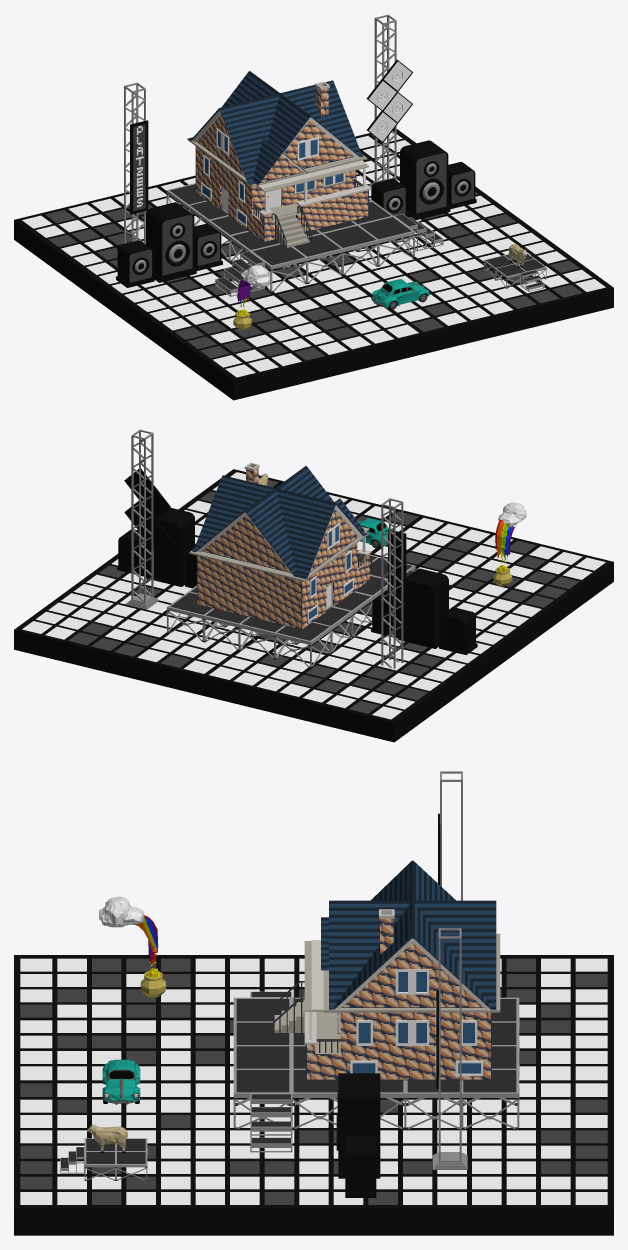
The picture shows the model from 3 angles, top to bottom: view 1: azimuth 30°, elevation 25°; view 2: azimuth 150°, elevation 25°; view 3: azimuth 270°, elevation 25°; orthographic projection. The views are drawn at different scales.
Visible parts, largest first — view 1: Cube.008, Cube.430, VEHICLES_VOLKSWAGEN, OBJRANDOM_RAINBOW; view 2: Cube.008, Cube.430, OBJRANDOM_RAINBOW, VEHICLES_VOLKSWAGEN; view 3: Cube.008, Cube.430, OBJRANDOM_RAINBOW, VEHICLES_VOLKSWAGEN, ANIMAL_OVEJA.
Boxes of the visible parts, left/top/right/bottom form: Cube.008: left=14, top=14, right=613, bottom=400; Cube.430: left=187, top=71, right=371, bottom=248; VEHICLES_VOLKSWAGEN: left=371, top=279, right=429, bottom=309; OBJRANDOM_RAINBOW: left=233, top=265, right=270, bottom=330; Cube.008: left=14, top=429, right=613, bottom=742; Cube.430: left=189, top=462, right=372, bottom=629; OBJRANDOM_RAINBOW: left=493, top=502, right=526, bottom=586; VEHICLES_VOLKSWAGEN: left=358, top=518, right=391, bottom=548; Cube.008: left=14, top=771, right=613, bottom=1235; Cube.430: left=272, top=860, right=500, bottom=1080; OBJRANDOM_RAINBOW: left=99, top=896, right=166, bottom=997; VEHICLES_VOLKSWAGEN: left=102, top=1059, right=140, bottom=1104; ANIMAL_OVEJA: left=87, top=1124, right=127, bottom=1153.
Size of the model in its own units: 4000 by 1980 by 4000.
43 materials, 2 textured.
